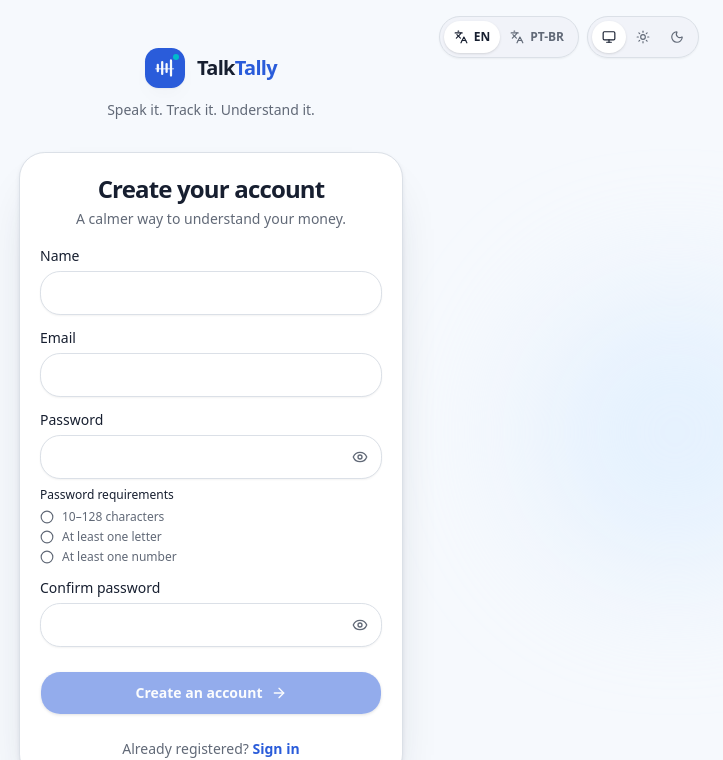
Test: RegisterPage › shows live mismatch and match feedback and enables only a valid form
The width and height of the screenshot is (723, 760).
Type "Carlos" into the field labelled "Name".
click(211, 293); type("Carlos")  # box [40,271,382,315]
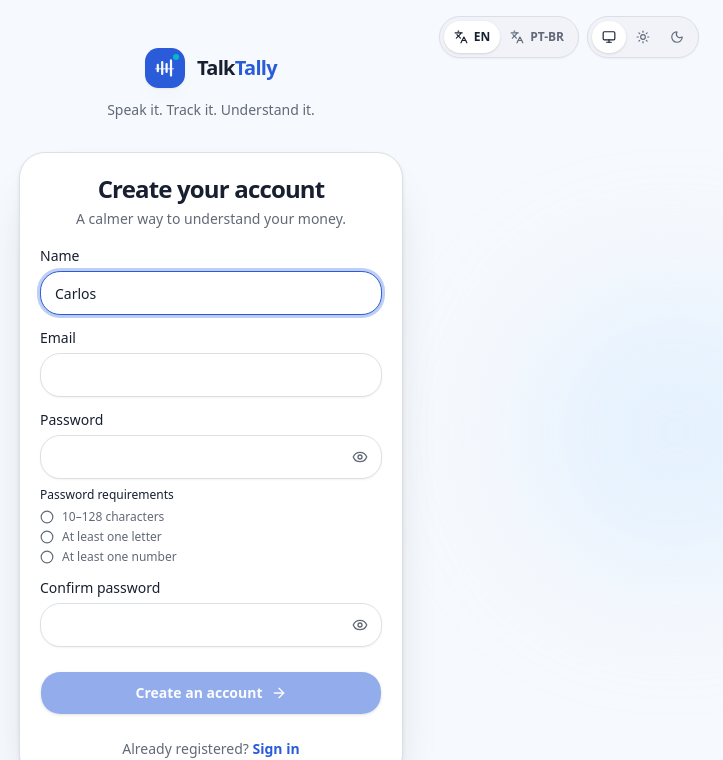
Type "carlos@example.com" into the field labelled "Email".
click(211, 375); type("carlos@example.com")  # box [40,353,382,397]
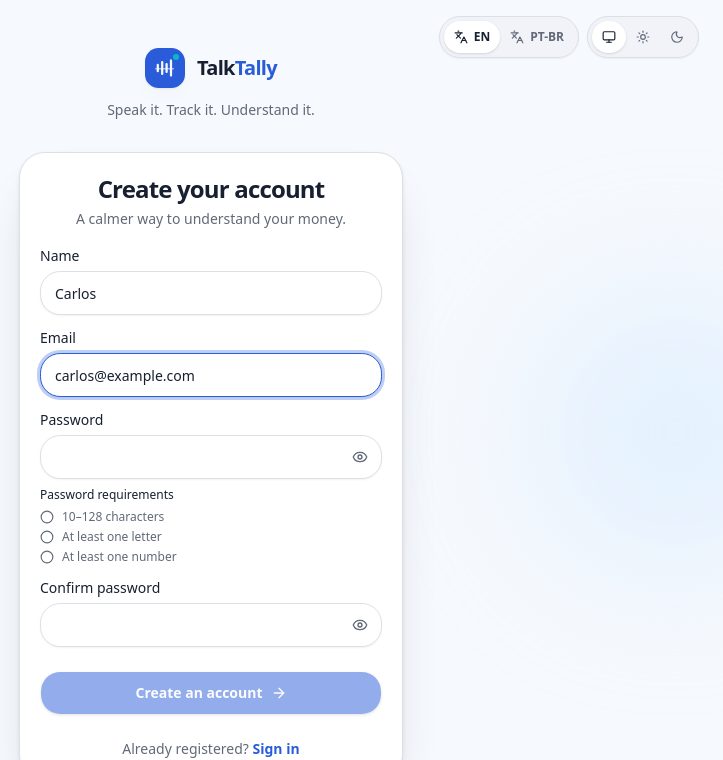
Type "securepass123" into the password field labelled "Password".
click(211, 457); type("securepass123")  # box [40,435,382,479]
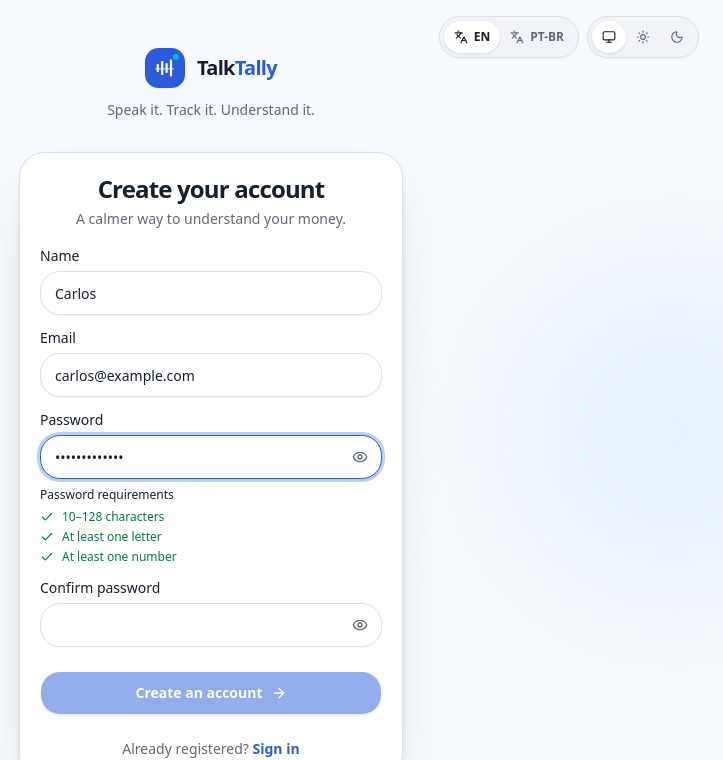
Now the list item "10–128 characters" has attribute data-state="met", box [40,507,164,525]
Now the list item "At least one letter" has attribute data-state="met", box [40,527,162,545]
Now the list item "At least one number" has attribute data-state="met", box [40,547,177,565]
Type "different123" into the password field labelled "Confirm password".
click(211, 625); type("different123")  # box [40,603,382,647]
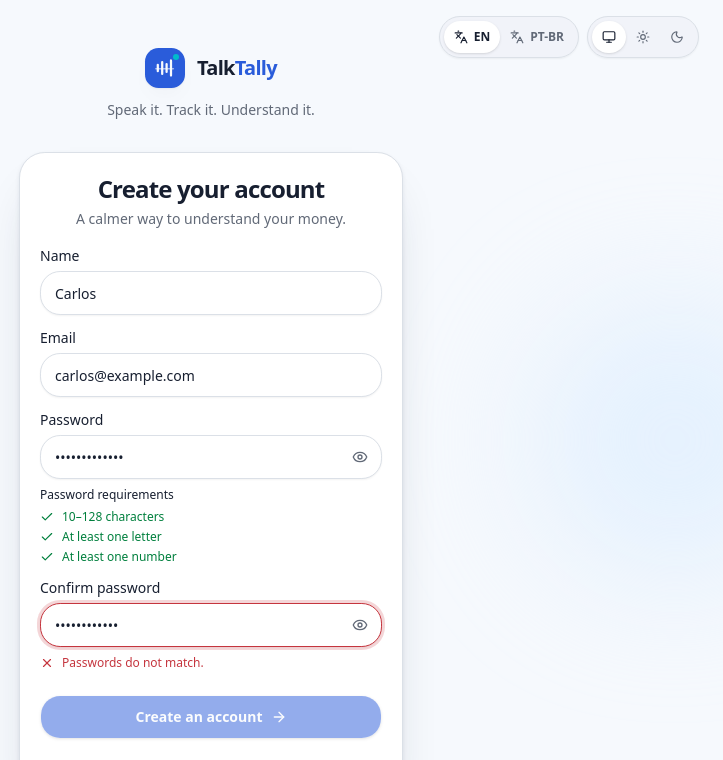
Expected: the button "Create an account" is disabled, [40,695,382,739]
Now the text "Passwords do not match." is shown, box [40,654,204,671]
Type "securepass123" into the password field labelled "Confirm password".
click(211, 625); type("securepass123")  # box [40,603,382,647]
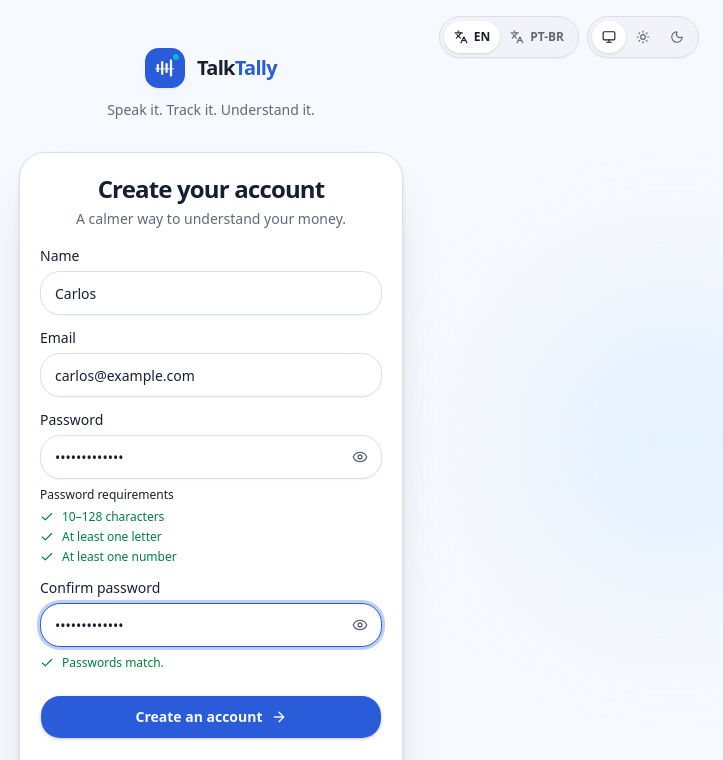
Now the text "Passwords match." is shown, box [40,654,164,671]
Now the button "Create an account" is enabled, box [40,695,382,739]
